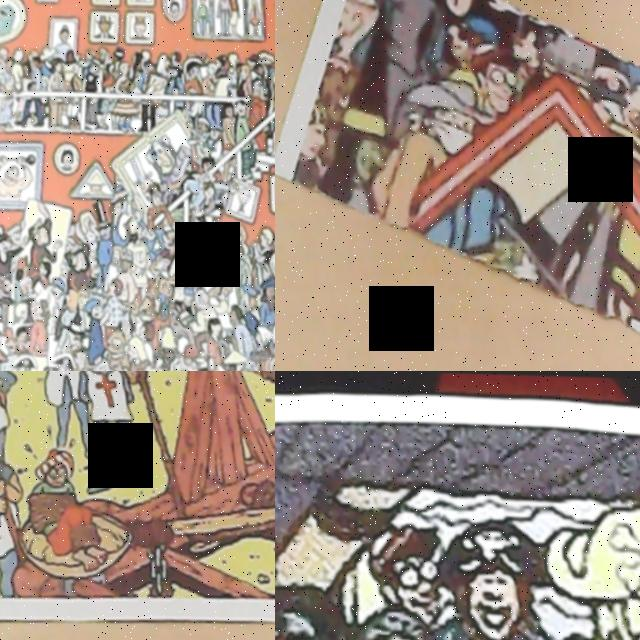waldo: (362, 510, 452, 634), (465, 29, 526, 120), (62, 343, 81, 371)
